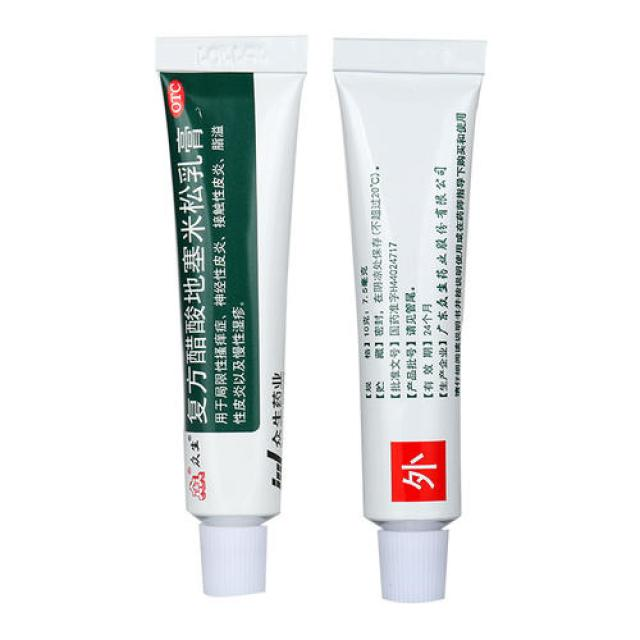-Hazardous waste - medicine inner packaging-: (154, 32, 308, 596), (333, 37, 483, 604)
